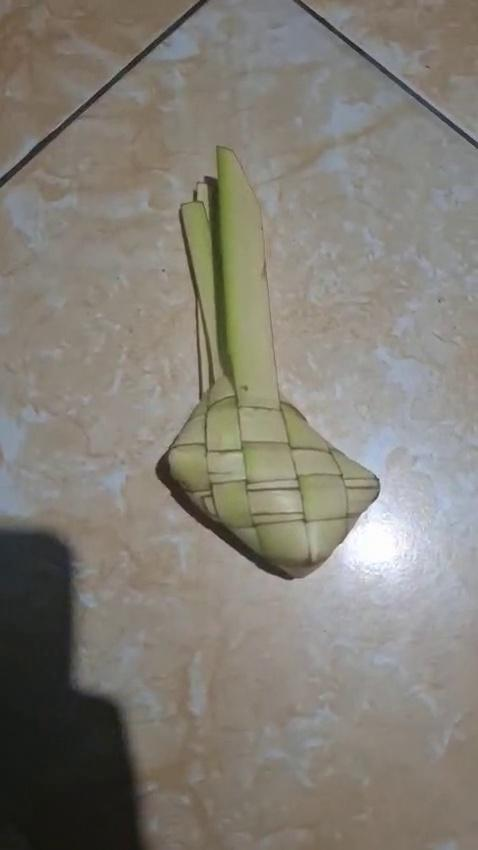Tipat Bantal: (151, 142, 381, 591)
